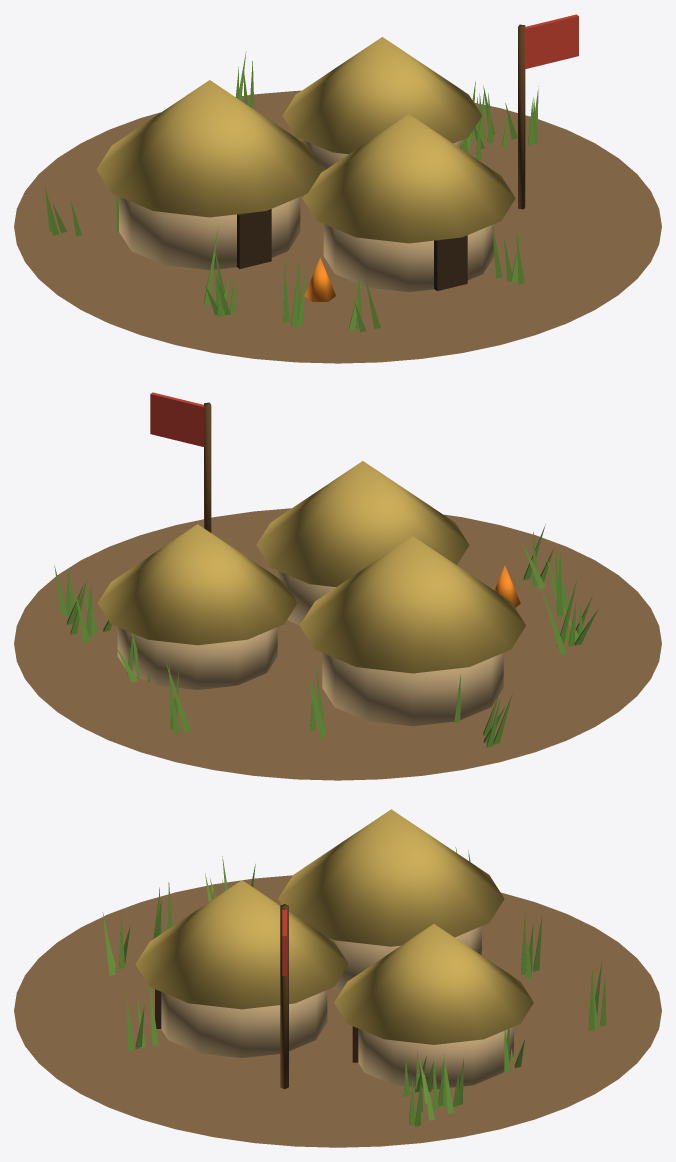
File: improvement_goody_hut.fbx
3 views of the same model, one above another, from view 1: azimuth 30°, elevation 25°; view 2: azimuth 150°, elevation 25°; view 3: azimuth 270°, elevation 25° (orthographic).
Parts seen in each view (by area): view 1: improvement_goody_hut_gpatch#8a6a44r_00, improvement_goody_hut_thatch_03, improvement_goody_hut_mudwall_02, improvement_goody_hut_leaf#6a9a3a.007_01, improvement_goody_hut_door_04, improvement_goody_hut_flag#c8402e_06, improvement_goody_hut_wood#5a3c1c.001_05, improvement_goody_hut_fire.001_07; view 2: improvement_goody_hut_gpatch#8a6a44r_00, improvement_goody_hut_thatch_03, improvement_goody_hut_mudwall_02, improvement_goody_hut_leaf#6a9a3a.007_01, improvement_goody_hut_flag#c8402e_06, improvement_goody_hut_wood#5a3c1c.001_05; view 3: improvement_goody_hut_gpatch#8a6a44r_00, improvement_goody_hut_thatch_03, improvement_goody_hut_mudwall_02, improvement_goody_hut_leaf#6a9a3a.007_01, improvement_goody_hut_wood#5a3c1c.001_05, improvement_goody_hut_door_04.
Boxes of the visible parts, x1,y1,x2,y2 form: improvement_goody_hut_gpatch#8a6a44r_00: (14,90,661,363); improvement_goody_hut_thatch_03: (96,37,515,243); improvement_goody_hut_mudwall_02: (119,140,494,291); improvement_goody_hut_leaf#6a9a3a.007_01: (45,51,538,332); improvement_goody_hut_door_04: (237,209,467,290); improvement_goody_hut_flag#c8402e_06: (524,14,578,69); improvement_goody_hut_wood#5a3c1c.001_05: (518,24,525,209); improvement_goody_hut_fire.001_07: (304,258,335,301); improvement_goody_hut_gpatch#8a6a44r_00: (14,508,661,780); improvement_goody_hut_thatch_03: (98,461,525,673); improvement_goody_hut_mudwall_02: (117,571,503,726); improvement_goody_hut_leaf#6a9a3a.007_01: (54,524,598,747); improvement_goody_hut_flag#c8402e_06: (150,392,204,447); improvement_goody_hut_wood#5a3c1c.001_05: (204,402,211,532); improvement_goody_hut_gpatch#8a6a44r_00: (14,875,661,1147); improvement_goody_hut_thatch_03: (135,809,533,1044); improvement_goody_hut_mudwall_02: (161,926,513,1089); improvement_goody_hut_leaf#6a9a3a.007_01: (102,847,606,1126); improvement_goody_hut_wood#5a3c1c.001_05: (280,904,288,1089); improvement_goody_hut_door_04: (155,989,358,1062).
Bounding box in the file's own units: 122 × 38.38 × 122.
